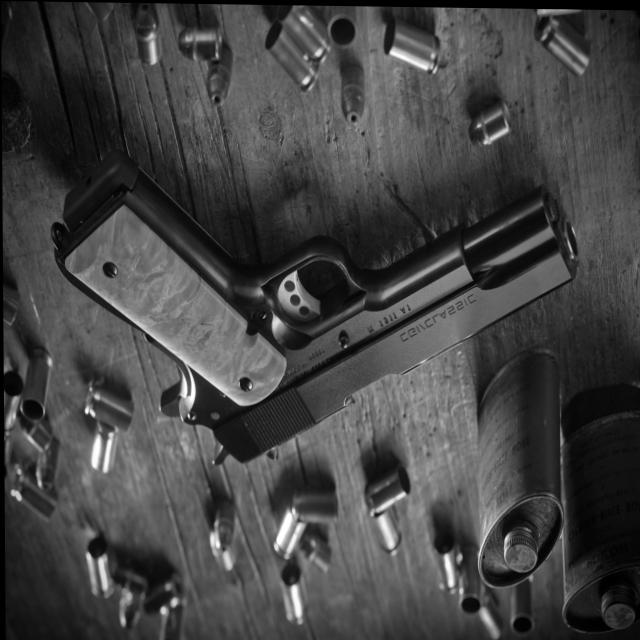handgun: (48, 148, 581, 471)
